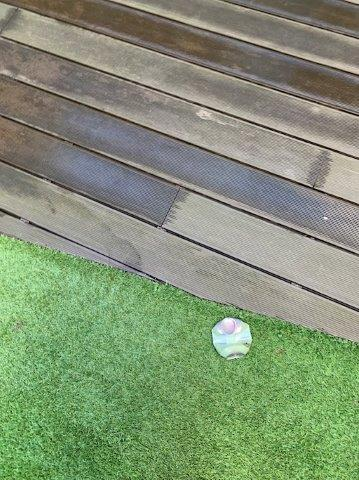kaleng: (212, 318, 252, 360)
